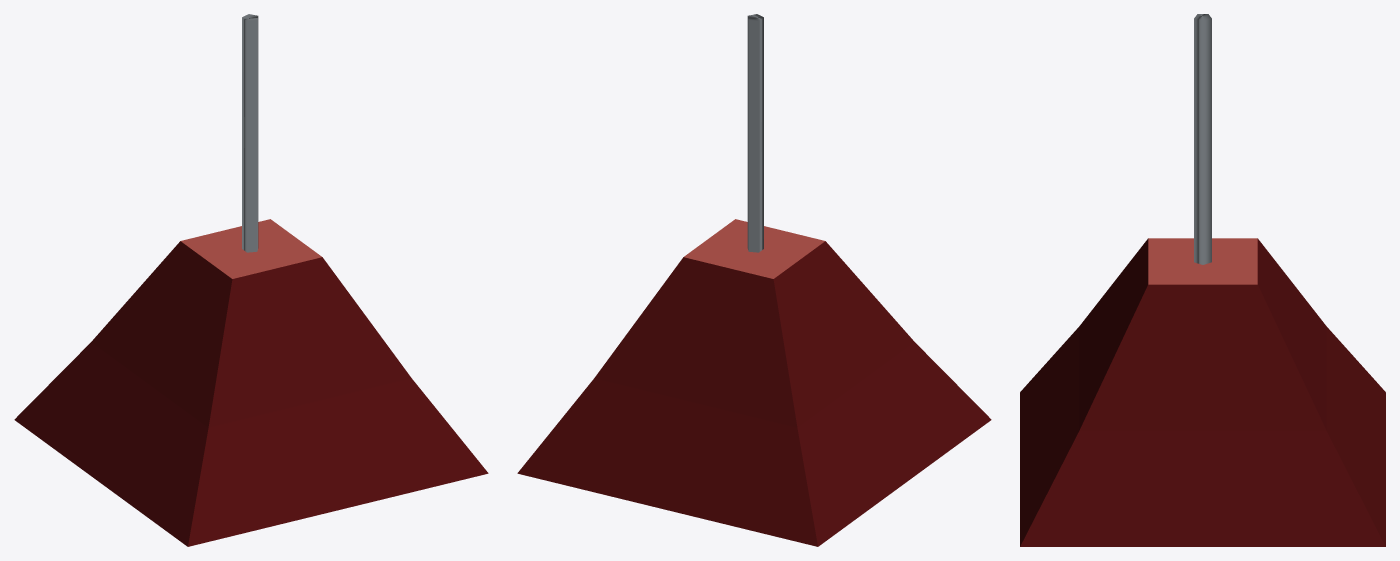
The model's file is Office_Roof.fbx.
3 renders of one model, left to right at view 1: azimuth 30°, elevation 25°; view 2: azimuth 150°, elevation 25°; view 3: azimuth 270°, elevation 25°, orthographic. The views are drawn at different scales.
Visible parts, largest first — view 1: Office_Roof; view 2: Office_Roof; view 3: Office_Roof.
Boxes of the visible parts, x1,y1,x2,y2 form: Office_Roof: (14,14,488,546); Office_Roof: (517,14,991,546); Office_Roof: (1020,14,1385,546).
Size of the model in its own units: 45.41 by 61.9 by 45.41.
